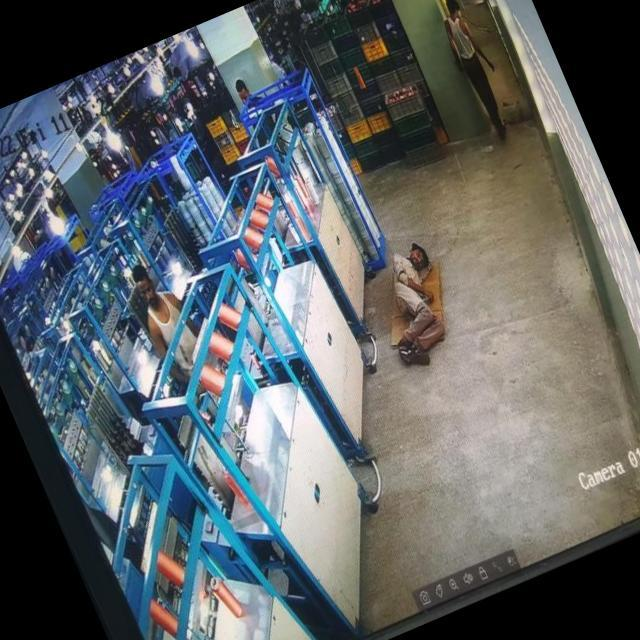person: (360, 238, 468, 372), (432, 0, 525, 145), (120, 256, 194, 360), (232, 74, 256, 104)
